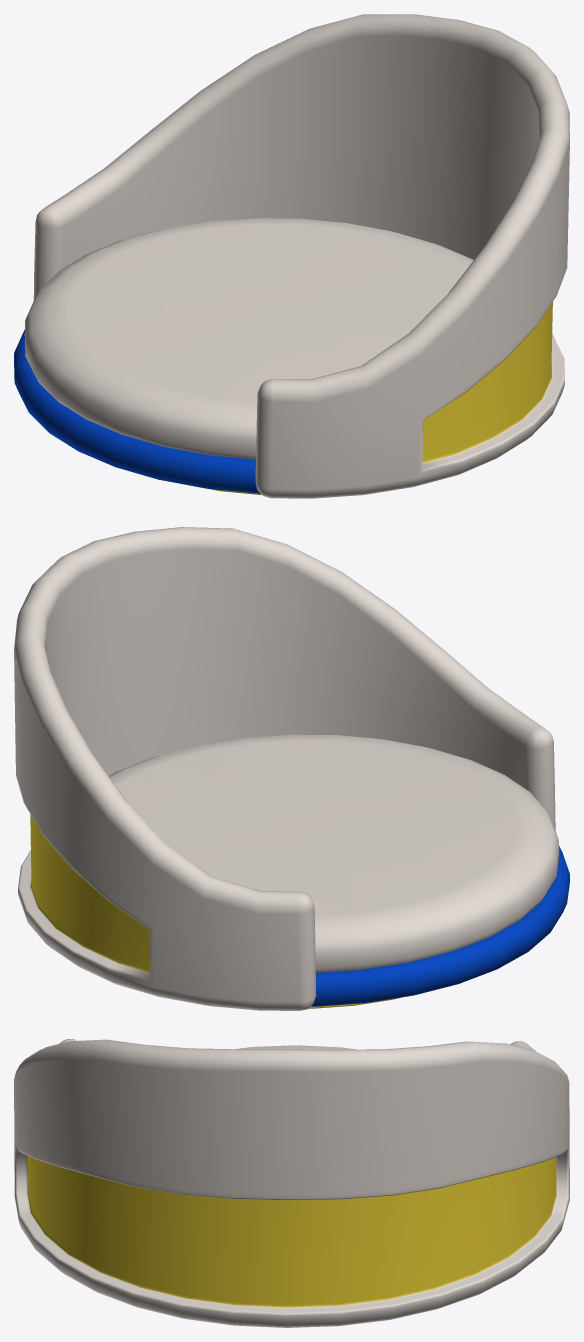
File: SM_HUB_Siege.fbx
3 views of the same model, one above another, from view 1: azimuth 30°, elevation 25°; view 2: azimuth 150°, elevation 25°; view 3: azimuth 270°, elevation 25° (orthographic). The views are drawn at different scales.
Visible parts, largest first — view 1: SM_HUB_Siege; view 2: SM_HUB_Siege; view 3: SM_HUB_Siege.
Part boxes in pixels (left/top/right/bottom): SM_HUB_Siege: left=14, top=14, right=569, bottom=498; SM_HUB_Siege: left=14, top=527, right=569, bottom=1010; SM_HUB_Siege: left=14, top=1039, right=569, bottom=1327.
Bounding box in the file's own units: 308 × 190 × 315.
